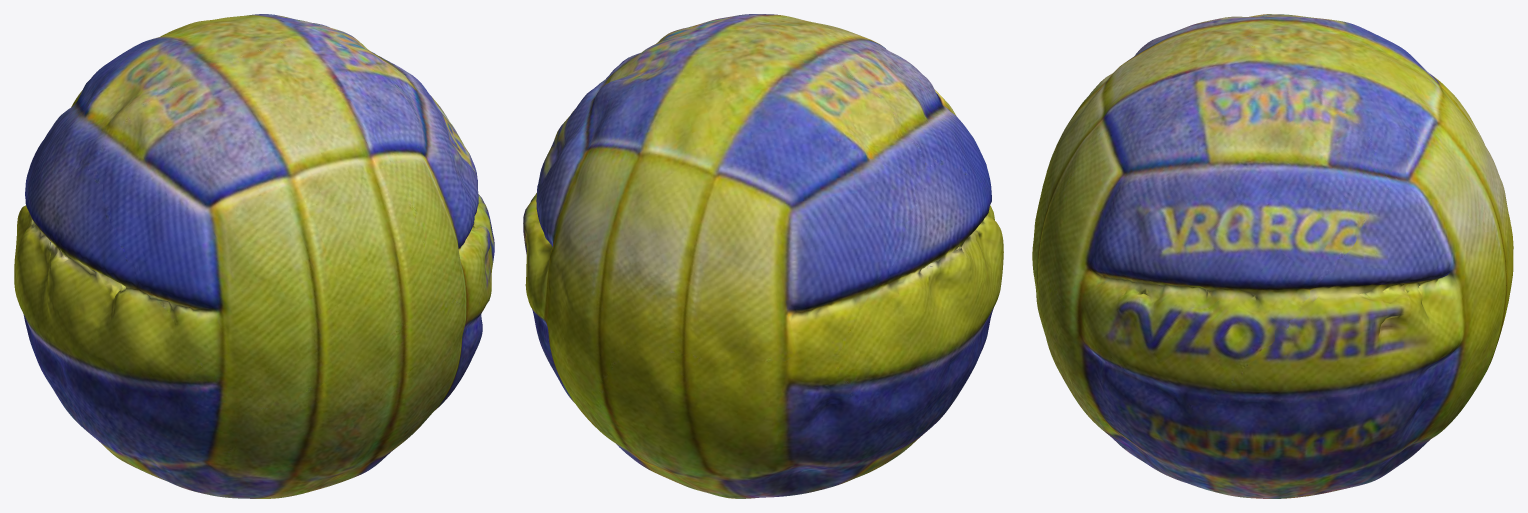
File: card_7.glb
3 views of the same model, side by side, from view 1: azimuth 30°, elevation 25°; view 2: azimuth 150°, elevation 25°; view 3: azimuth 270°, elevation 25° (orthographic).
Visible parts, largest first — view 1: Mesh1; view 2: Mesh1; view 3: Mesh1.
Boxes of the visible parts, x1=… form: Mesh1: x1=14, y1=14, x2=494, y2=498; Mesh1: x1=523, y1=14, x2=1003, y2=498; Mesh1: x1=1032, y1=14, x2=1513, y2=498.
Size of the model in its own units: 1.19 by 1.2 by 1.18.
Materials: 1 (1 with a texture image).
